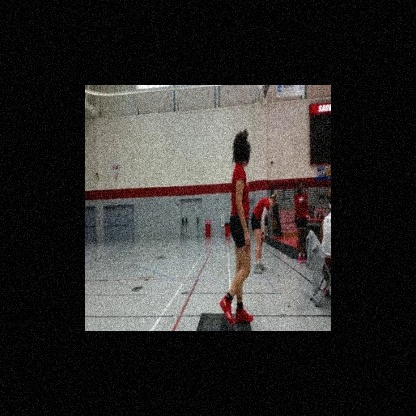lateral_flexion_left: (219, 129, 259, 331)
stance_width_broad: (222, 164, 255, 331)
